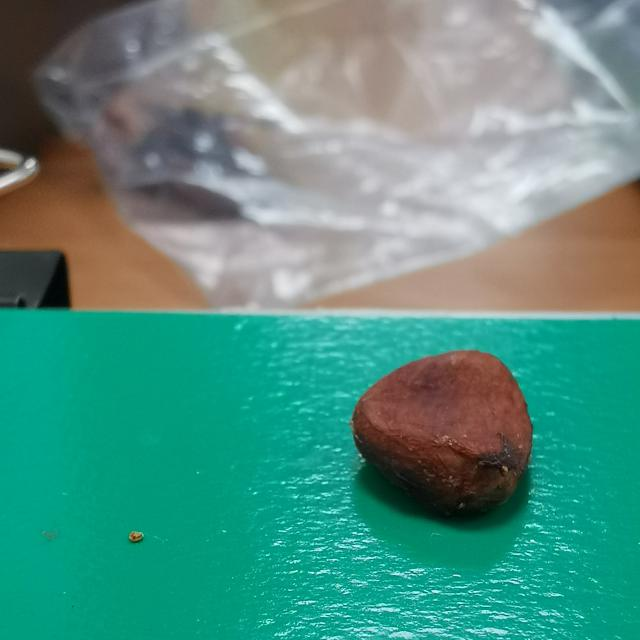Flat_cocoabeans: (291, 321, 618, 574)
